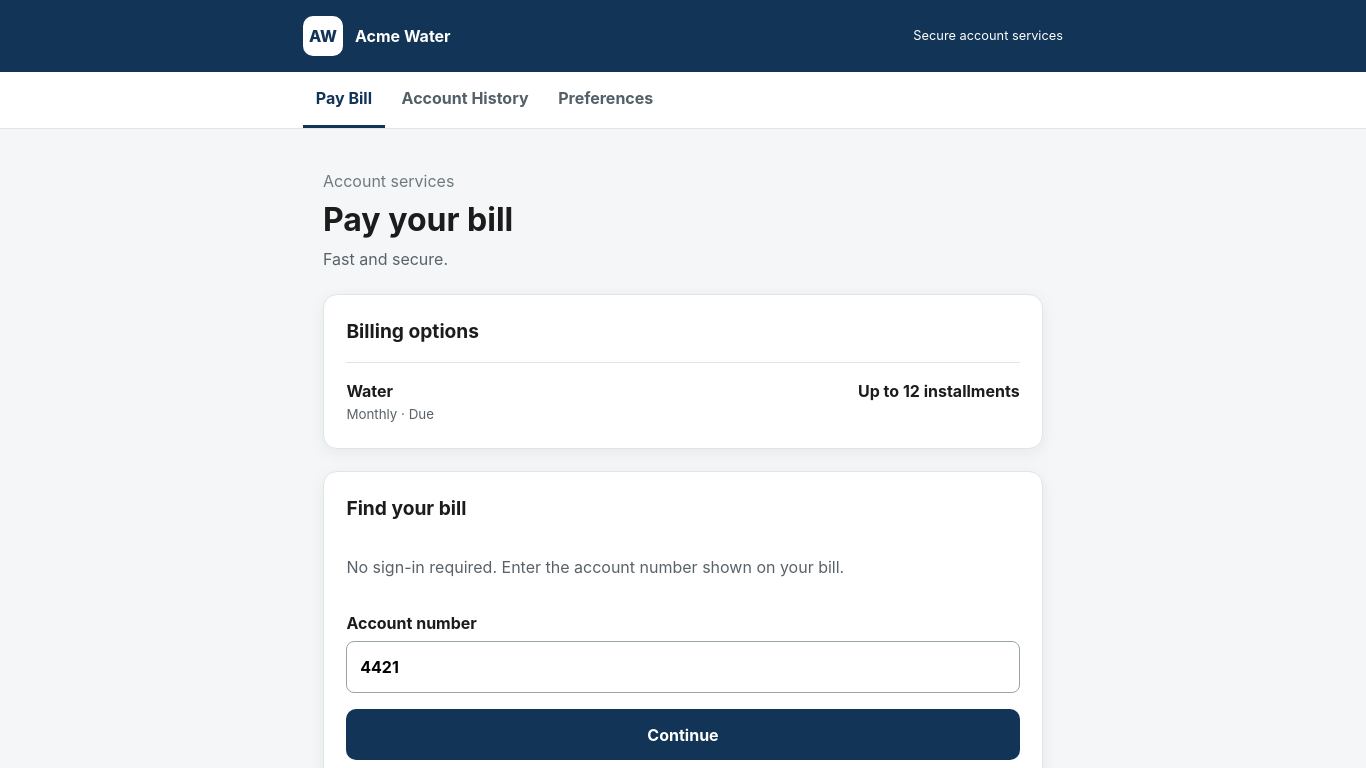
Test case: F4 partial-payment / installment authorable journey › shows the plan chooser for an eligible biller
Step 1. Click the button with test id "lookup-submit" → (683, 735), box [346,709,1020,760]
(page scrolled)
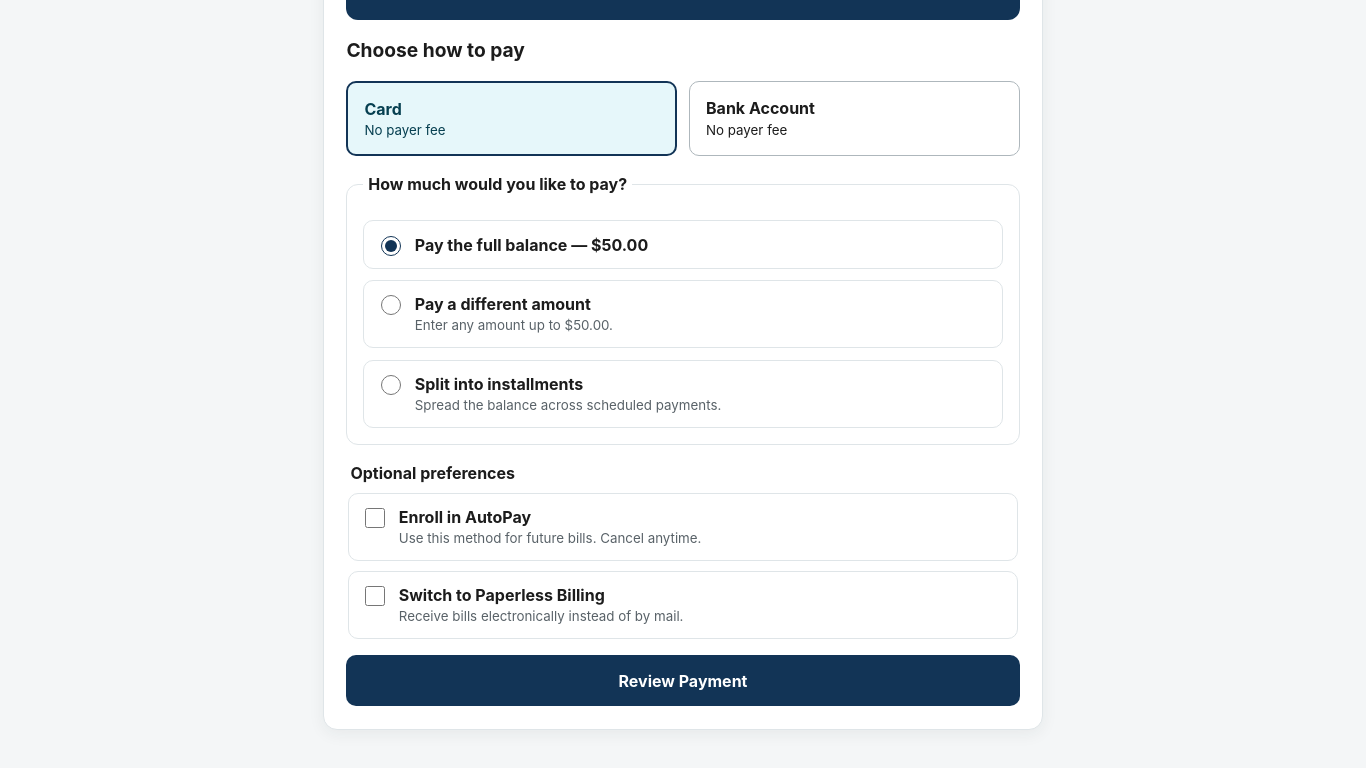
Result: the button with test id "review-submit" is shown at [346,655,1020,706]
Result: the element with test id "plan-chooser" is shown at [346,172,1020,445]
Result: the radio button with test id "plan-mode-partial" is shown at [381,295,401,315]
